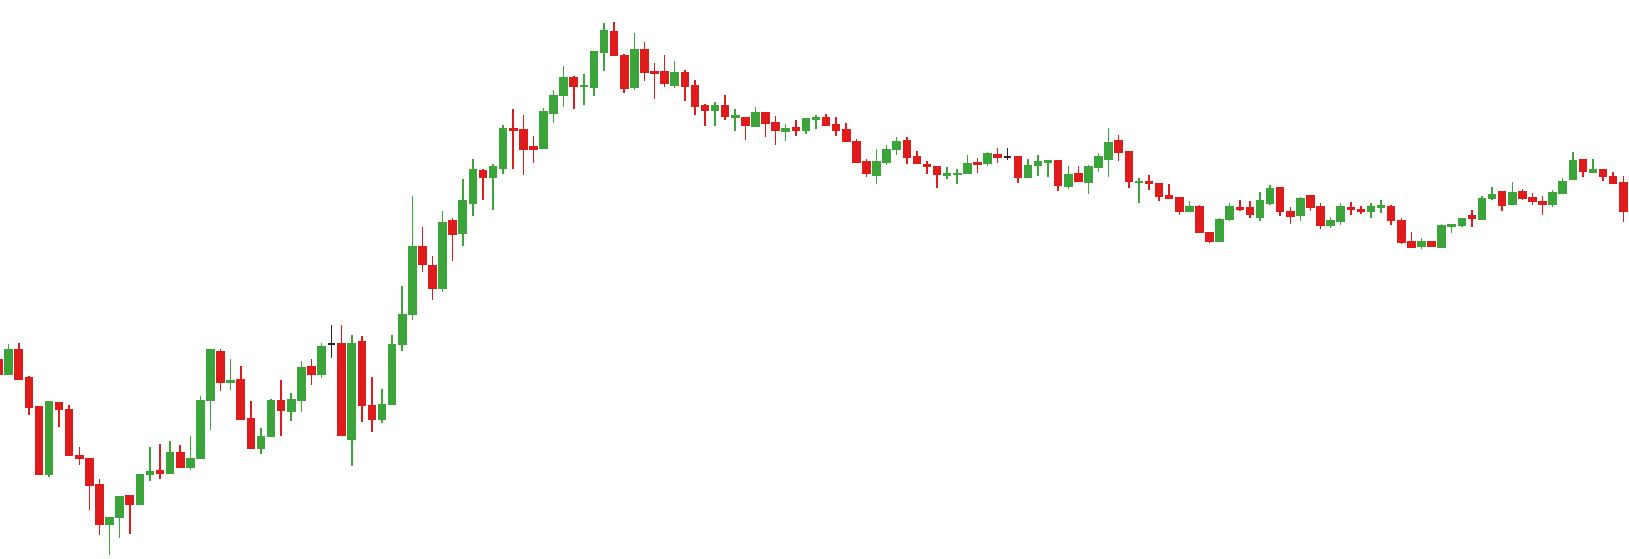buy: (248, 355, 360, 468)
sell: (1051, 122, 1123, 183)
